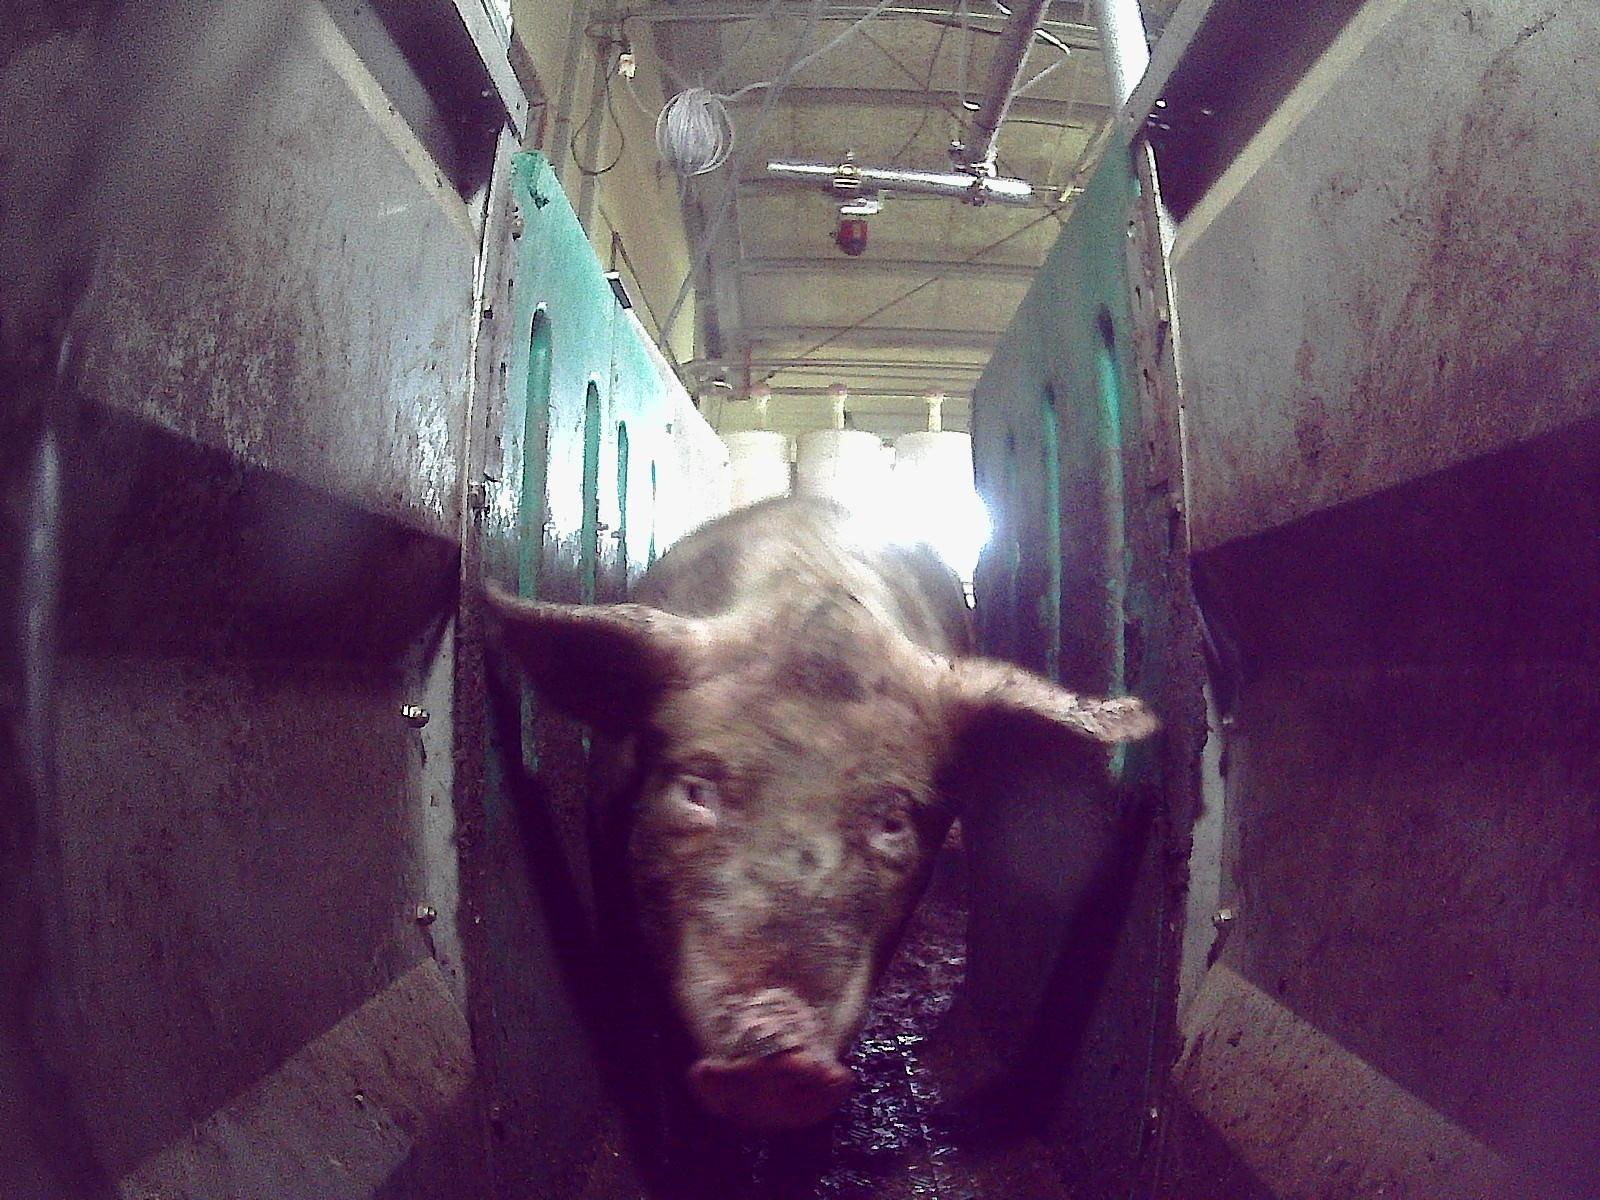Face: (623, 671, 946, 1127)
